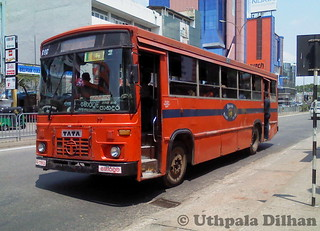bus: (35, 22, 279, 188)
threewheel: (1, 106, 26, 130)
